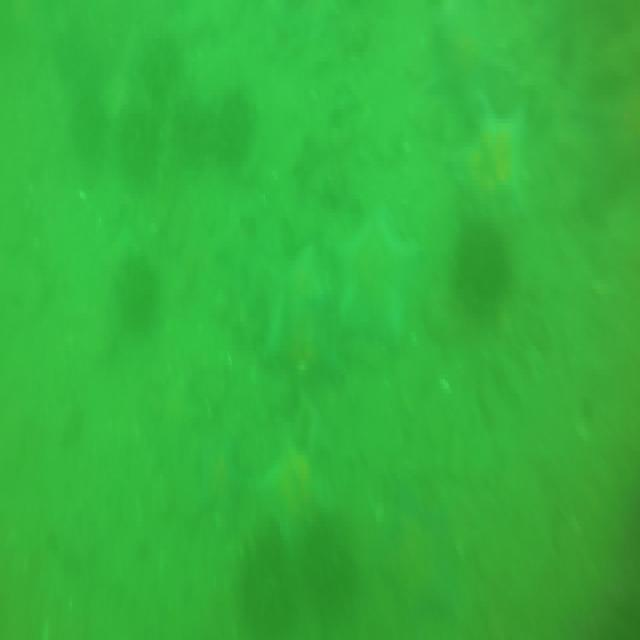echinus: (451, 218, 505, 318), (303, 529, 359, 622), (50, 5, 111, 84), (243, 559, 291, 640), (134, 25, 178, 82), (116, 100, 154, 165), (66, 93, 103, 158), (123, 259, 158, 318), (225, 92, 254, 154)
starfish: (326, 202, 419, 336), (445, 92, 534, 217), (380, 496, 461, 624), (248, 438, 338, 544), (258, 242, 327, 360), (198, 432, 242, 516)
